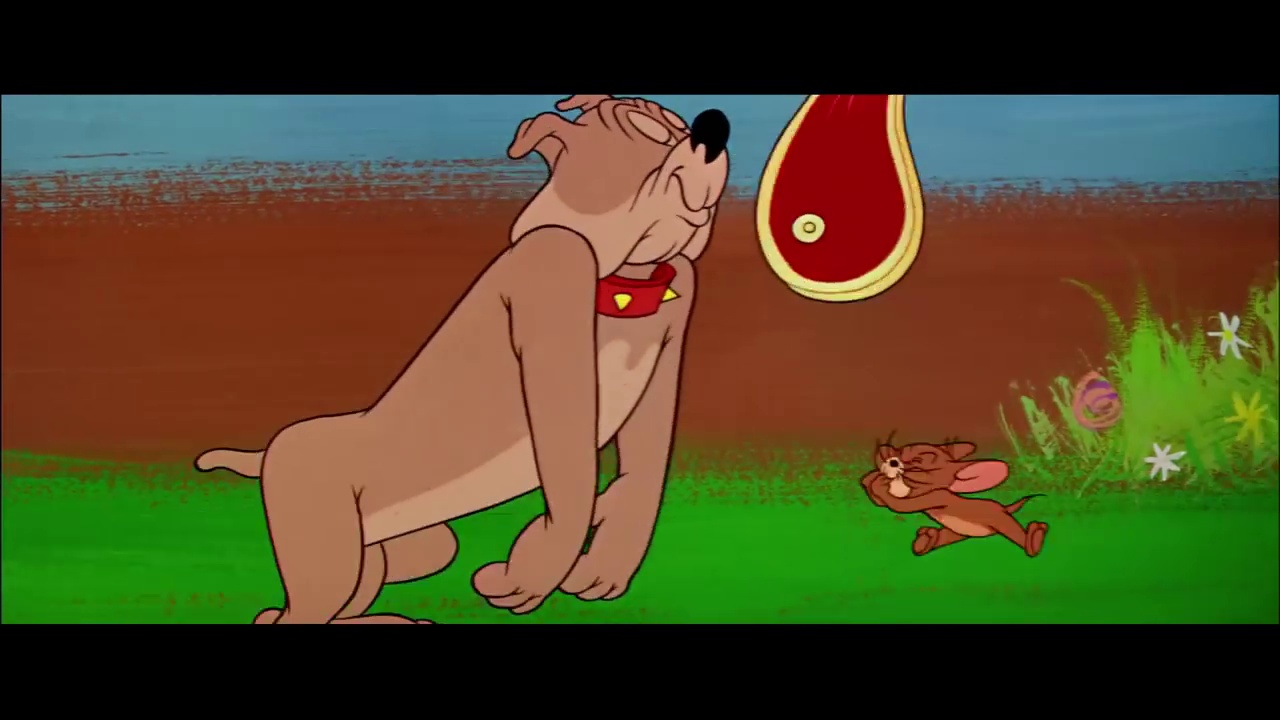spike: (507, 94, 747, 325)
